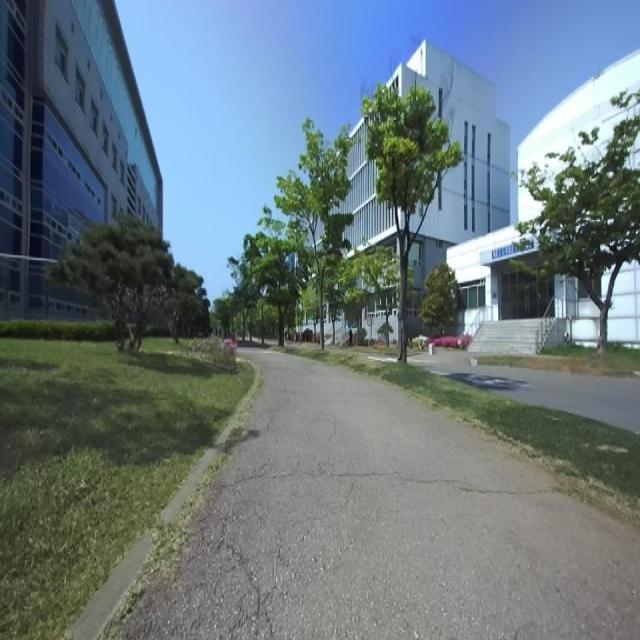sidewalk: (123, 348, 640, 639)
